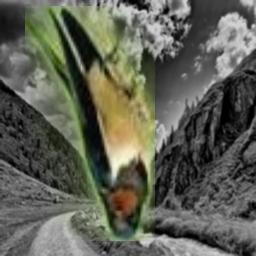Swallow: (25, 6, 155, 241)
